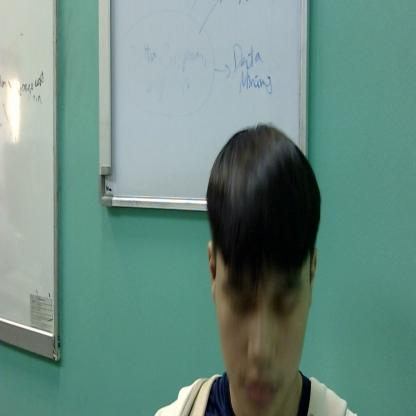Closed-Eyes: (221, 259, 302, 330)
